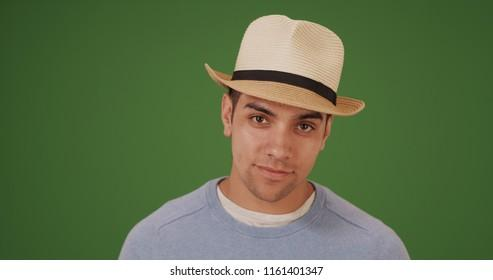cap: (200, 8, 377, 122)
